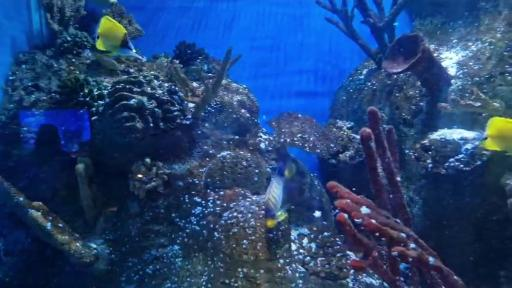Fish: (95, 16, 145, 60), (265, 158, 296, 227), (482, 117, 512, 153)
